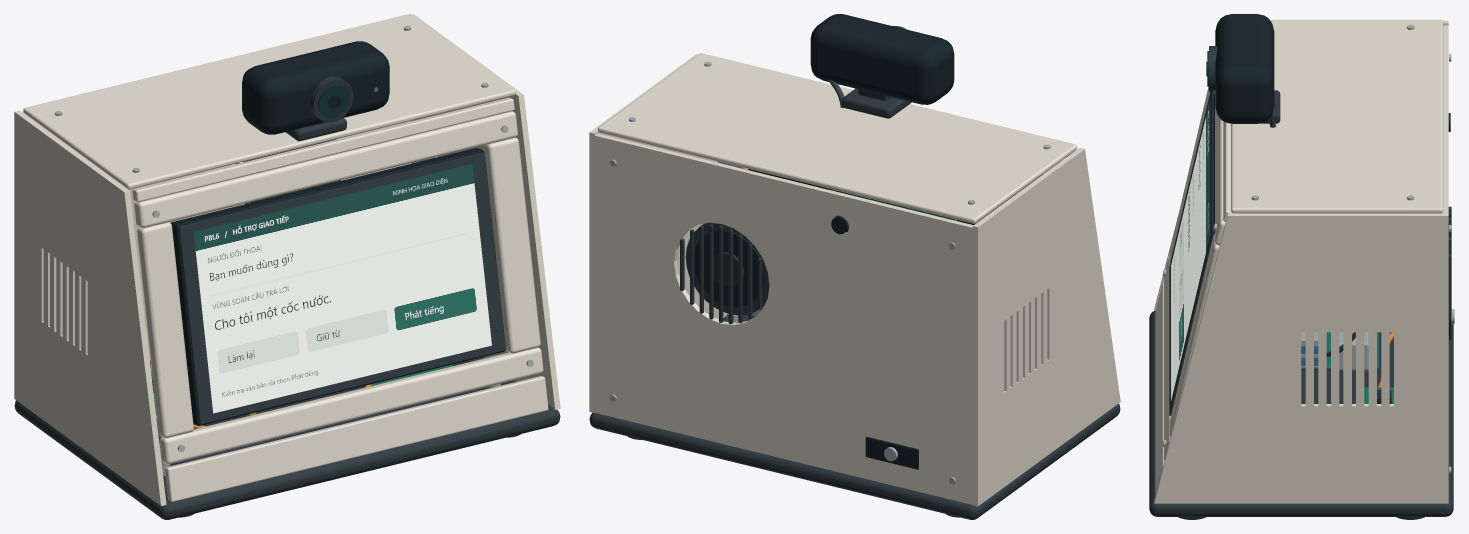
Rendered from pbl6-device-assembled.glb.
3 renders of one model, left to right at view 1: azimuth 30°, elevation 25°; view 2: azimuth 150°, elevation 25°; view 3: azimuth 270°, elevation 25°, orthographic. The views are drawn at different scales.
Visible parts, largest first — view 1: display_area_estimated, vented_side_panel (×2), top_panel, side_bezel (×2), lower_transition, lower_bezel, touch_glass, upper_bezel, base_plate, Aioneus_form_placeholder, upper_transition, LCD_module_170x100_approx (+4 smaller); view 2: rear_service_panel, vented_side_panel (×2), top_panel, Aioneus_form_placeholder, base_plate, speaker_cone, speaker_50mm_placeholder, webcam_mount_concept, DC_input_recess; view 3: vented_side_panel, top_panel, base_plate, Aioneus_form_placeholder, display_area_estimated, side_bezel (×2), touch_glass, lower_transition, upper_bezel, rear_service_panel, lower_bezel, upper_transition (+1 smaller).
Part boxes in pixels (x1,y1,x2,y2): display_area_estimated: (193, 164, 491, 413); vented_side_panel (×2): (14, 14, 560, 505); top_panel: (23, 14, 515, 189); side_bezel (×2): (137, 137, 540, 437); lower_transition: (165, 376, 548, 501); lower_bezel: (159, 347, 543, 464); touch_glass: (179, 152, 505, 424); upper_bezel: (134, 111, 517, 227); base_plate: (14, 357, 560, 519); Aioneus_form_placeholder: (242, 41, 389, 134); upper_transition: (132, 97, 514, 201); LCD_module_170x100_approx: (170, 148, 505, 425); rear_service_panel: (594, 133, 973, 504); vented_side_panel (×2): (589, 54, 1120, 506); top_panel: (598, 53, 1077, 223); Aioneus_form_placeholder: (810, 14, 954, 104); base_plate: (589, 314, 1120, 519); speaker_cone: (694, 230, 764, 306); speaker_50mm_placeholder: (685, 222, 769, 315); webcam_mount_concept: (842, 88, 911, 118); DC_input_recess: (865, 436, 918, 469); vented_side_panel: (1154, 213, 1448, 503); top_panel: (1231, 19, 1443, 213); base_plate: (1149, 311, 1453, 516); Aioneus_form_placeholder: (1215, 14, 1274, 123); display_area_estimated: (1171, 99, 1210, 400); side_bezel (×2): (1169, 86, 1219, 437); touch_glass: (1169, 92, 1213, 415); lower_transition: (1155, 283, 1164, 495); upper_bezel: (1215, 95, 1225, 245); rear_service_panel: (1442, 25, 1448, 213); lower_bezel: (1164, 258, 1170, 460); upper_transition: (1223, 121, 1231, 221).
Size of the model in its own units: 0.22 by 0.2058 by 0.1455.
13 materials, 1 textured.
